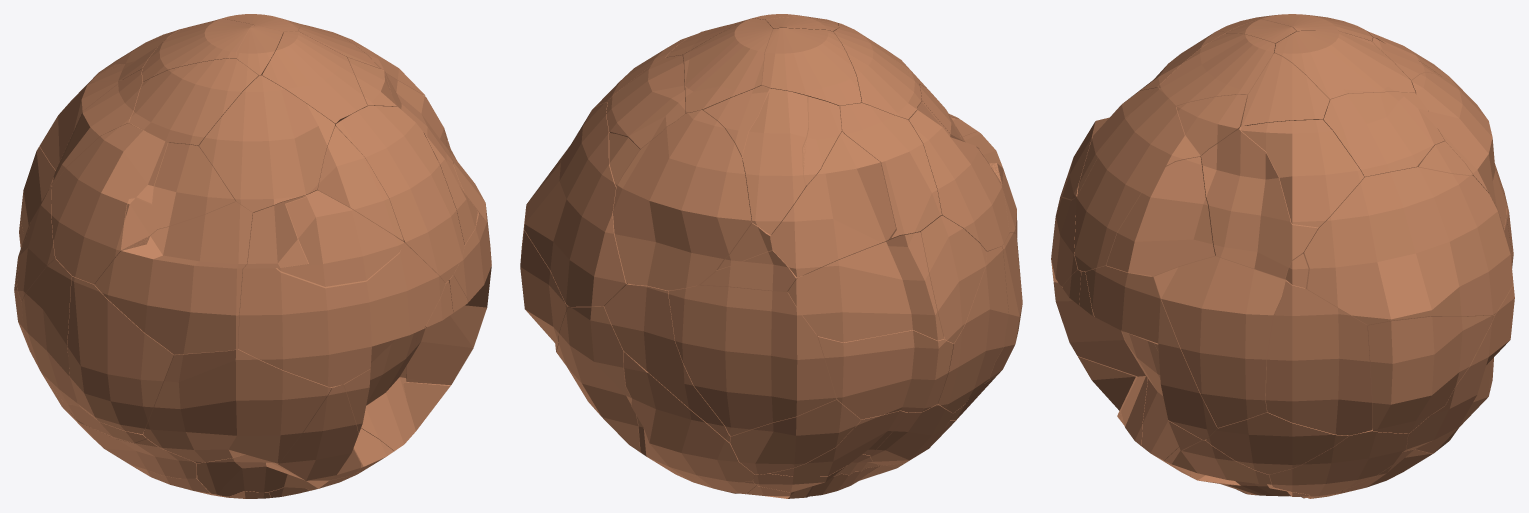
Rendered from astro2.glb.
3 renders of one model, left to right at view 1: azimuth 30°, elevation 25°; view 2: azimuth 150°, elevation 25°; view 3: azimuth 270°, elevation 25°, orthographic.
Visible parts, largest first — view 1: Sphere_cell.004, Sphere_cell.056, Sphere_cell.081, Sphere_cell.014, Sphere_cell.071, Sphere_cell.015, Sphere_cell.018, Sphere_cell.027, Sphere_cell.090, Sphere_cell.058, Sphere_cell.063, Sphere_cell.032 (+26 smaller); view 2: Sphere_cell.083, Sphere_cell, Sphere_cell.072, Sphere_cell.079, Sphere_cell.078, Sphere_cell.064, Sphere_cell.092, Sphere_cell.035, Sphere_cell.071, Sphere_cell.055, Sphere_cell.042, Sphere_cell.012 (+24 smaller); view 3: Sphere_cell.072, Sphere_cell.002, Sphere_cell.038, Sphere_cell.060, Sphere_cell.006, Sphere_cell.018, Sphere_cell.001, Sphere_cell.039, Sphere_cell.026, Sphere_cell.059, Sphere_cell.010, Sphere_cell.063 (+24 smaller).
Boxes of the visible parts, x1,y1,x2,y2 form: Sphere_cell.004: (238, 194, 445, 386); Sphere_cell.056: (94, 201, 252, 354); Sphere_cell.081: (143, 349, 331, 463); Sphere_cell.014: (199, 75, 334, 212); Sphere_cell.071: (51, 123, 168, 284); Sphere_cell.015: (67, 276, 173, 434); Sphere_cell.018: (335, 106, 464, 282); Sphere_cell.027: (277, 190, 403, 286); Sphere_cell.090: (129, 58, 258, 146); Sphere_cell.058: (121, 142, 235, 249); Sphere_cell.063: (261, 31, 367, 125); Sphere_cell.032: (21, 258, 79, 406); Sphere_cell.083: (613, 110, 751, 290); Sphere_cell: (668, 285, 836, 436); Sphere_cell.072: (524, 102, 627, 306); Sphere_cell.079: (788, 232, 944, 342); Sphere_cell.078: (771, 131, 895, 277); Sphere_cell.064: (817, 330, 953, 419); Sphere_cell.092: (624, 351, 754, 482); Sphere_cell.035: (742, 88, 808, 234); Sphere_cell.071: (908, 101, 1009, 251); Sphere_cell.055: (839, 103, 941, 242); Sphere_cell.042: (604, 283, 731, 442); Sphere_cell.012: (556, 306, 641, 453); Sphere_cell.072: (1303, 167, 1513, 325); Sphere_cell.002: (1153, 256, 1285, 427); Sphere_cell.038: (1265, 280, 1372, 435); Sphere_cell.060: (1367, 315, 1494, 433); Sphere_cell.006: (1200, 124, 1320, 280); Sphere_cell.018: (1074, 87, 1200, 271); Sphere_cell.001: (1106, 156, 1214, 276); Sphere_cell.039: (1085, 265, 1217, 439); Sphere_cell.026: (1240, 120, 1363, 227); Sphere_cell.059: (1323, 92, 1444, 177); Sphere_cell.010: (1273, 30, 1415, 106); Sphere_cell.063: (1158, 33, 1275, 106).
Bounding box in the file's own units: 2 × 2.06 × 1.92.
